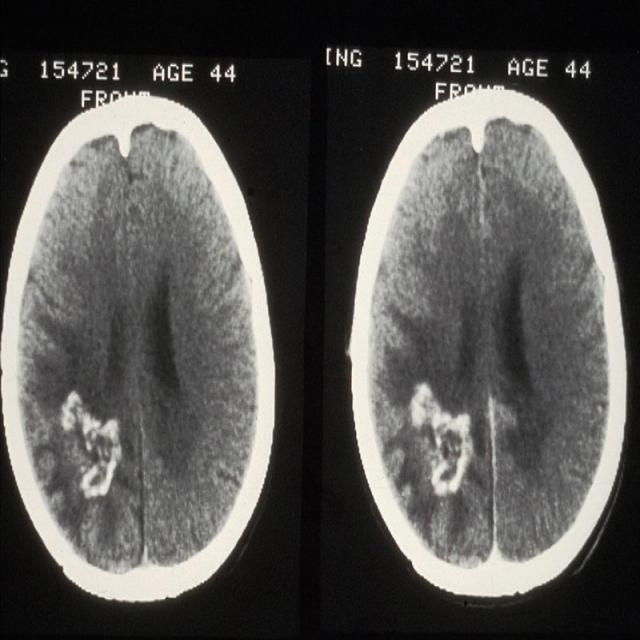Tumor: (408, 378, 475, 496), (61, 389, 124, 497)
